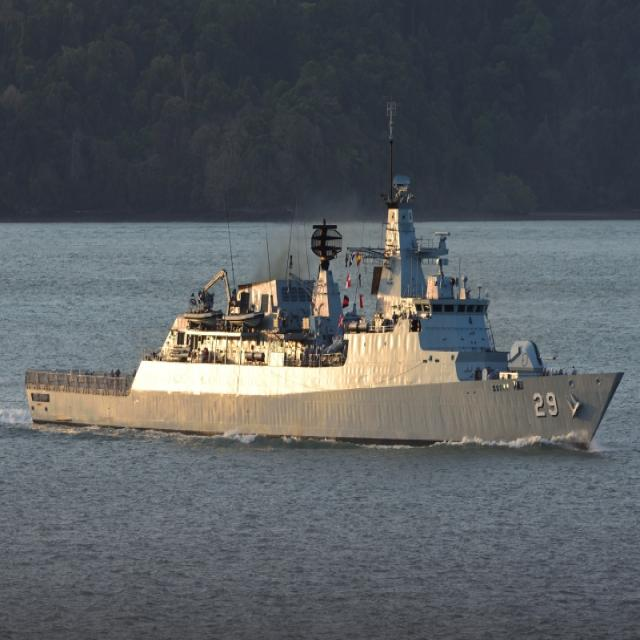Fragata: (21, 96, 632, 455)
